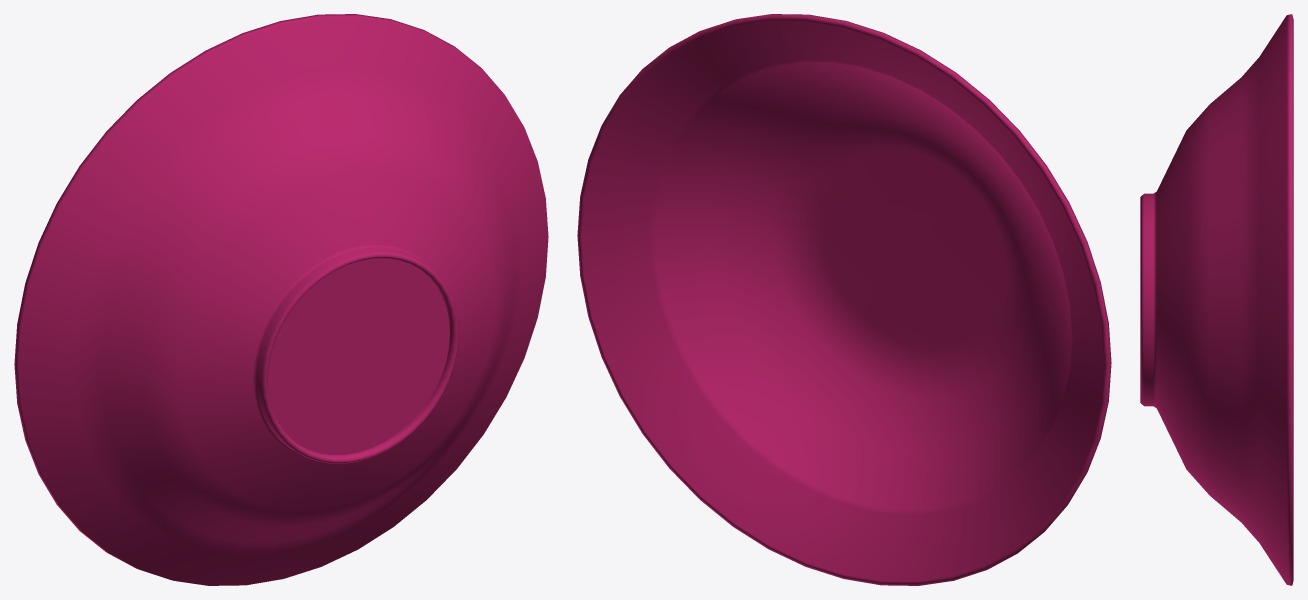
File: SM_Dishes_09.fbx
3 views of the same model, side by side, from view 1: azimuth 30°, elevation 25°; view 2: azimuth 150°, elevation 25°; view 3: azimuth 270°, elevation 25° (orthographic). The views are drawn at different scales.
Visible parts, largest first — view 1: SM_Dishes_09; view 2: SM_Dishes_09; view 3: SM_Dishes_09.
Part boxes in pixels (x1=…): SM_Dishes_09: x1=14, y1=14, x2=548, y2=585; SM_Dishes_09: x1=577, y1=14, x2=1111, y2=585; SM_Dishes_09: x1=1140, y1=14, x2=1293, y2=585.
Size of the model in its own units: 28.02 by 28.02 by 7.5.
